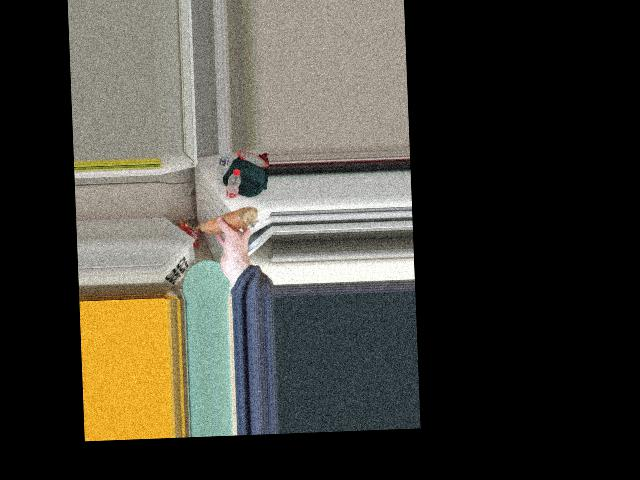sweet_potato: (193, 210, 258, 231)
